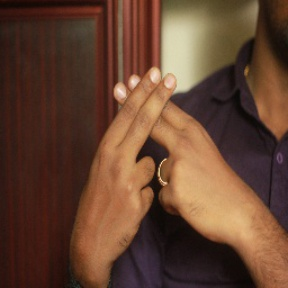F: (86, 56, 214, 196)
